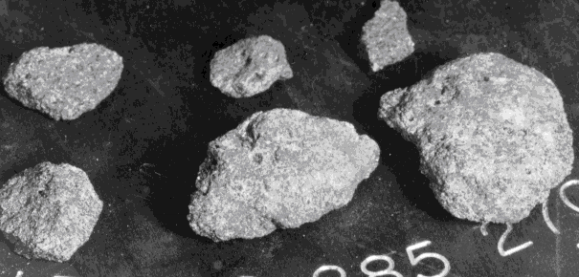Basalt: (374, 73, 573, 221), (180, 110, 379, 238), (11, 140, 97, 264), (183, 36, 322, 99), (22, 45, 136, 120), (348, 11, 421, 74)
